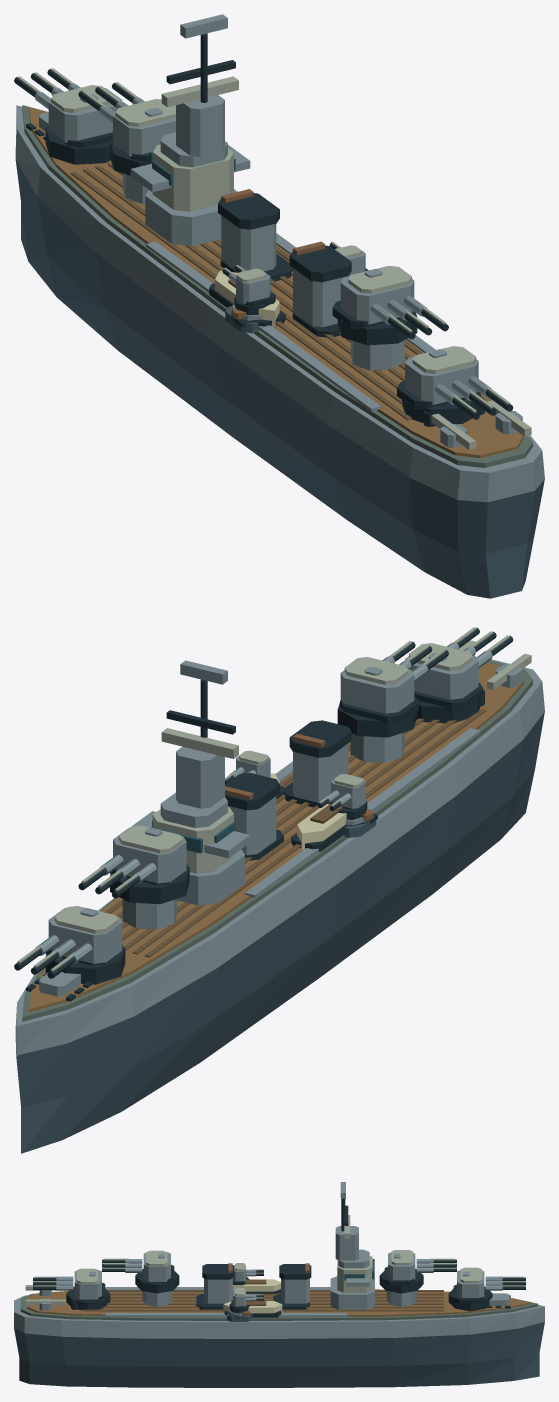
Rendered from cruiser.glb.
3 views of the same model, one above another, from view 1: azimuth 30°, elevation 25°; view 2: azimuth 150°, elevation 25°; view 3: azimuth 270°, elevation 25° (orthographic). The views are drawn at different scales.
Visible parts, largest first — view 1: cruiser-cruiser-geometry, cruiser-part_bridge.002-geometry, cruiser-turret_main_2.001-geometry, cruiser-turret_main_3.001-geometry, cruiser-turret_main_0.001-geometry, cruiser-historic_funnel_0.002-geometry, cruiser-turret_main_1.001-geometry, cruiser-historic_funnel_1.001-geometry, cruiser-turret_aa_aa-port.003-geometry; view 2: cruiser-cruiser-geometry, cruiser-part_bridge.002-geometry, cruiser-turret_main_2.001-geometry, cruiser-turret_main_1.001-geometry, cruiser-turret_main_0.001-geometry, cruiser-turret_main_3.001-geometry, cruiser-historic_funnel_1.001-geometry, cruiser-historic_funnel_0.002-geometry, cruiser-turret_aa_aa-port.003-geometry, cruiser-turret_aa_aa-starboard.002-geometry; view 3: cruiser-cruiser-geometry, cruiser-part_bridge.002-geometry, cruiser-turret_main_1.001-geometry, cruiser-turret_main_2.001-geometry, cruiser-turret_main_0.001-geometry, cruiser-turret_main_3.001-geometry, cruiser-historic_funnel_0.002-geometry, cruiser-historic_funnel_1.001-geometry, cruiser-turret_aa_aa-starboard.002-geometry, cruiser-turret_aa_aa-port.003-geometry.
Boxes of the visible parts, <box> form: cruiser-cruiser-geometry: <box>15,105,544,598</box>; cruiser-part_bridge.002-geometry: <box>130,14,250,245</box>; cruiser-turret_main_2.001-geometry: <box>332,265,448,345</box>; cruiser-turret_main_3.001-geometry: <box>397,346,513,424</box>; cruiser-turret_main_0.001-geometry: <box>14,68,122,164</box>; cruiser-historic_funnel_0.002-geometry: <box>218,189,292,281</box>; cruiser-turret_main_1.001-geometry: <box>78,82,175,175</box>; cruiser-historic_funnel_1.001-geometry: <box>289,241,351,337</box>; cruiser-turret_aa_aa-port.003-geometry: <box>222,265,275,315</box>; cruiser-cruiser-geometry: <box>15,640,544,1153</box>; cruiser-part_bridge.002-geometry: <box>131,660,250,905</box>; cruiser-turret_main_2.001-geometry: <box>337,641,448,737</box>; cruiser-turret_main_1.001-geometry: <box>78,825,189,904</box>; cruiser-turret_main_0.001-geometry: <box>14,906,125,984</box>; cruiser-turret_main_3.001-geometry: <box>405,627,513,723</box>; cruiser-historic_funnel_1.001-geometry: <box>283,720,351,807</box>; cruiser-historic_funnel_0.002-geometry: <box>225,773,283,860</box>; cruiser-turret_aa_aa-port.003-geometry: <box>317,774,367,819</box>; cruiser-turret_aa_aa-starboard.002-geometry: <box>225,750,270,784</box>; cruiser-cruiser-geometry: <box>14,1279,544,1387</box>; cruiser-part_bridge.002-geometry: <box>330,1182,374,1309</box>; cruiser-turret_main_1.001-geometry: <box>379,1250,456,1293</box>; cruiser-turret_main_2.001-geometry: <box>102,1250,179,1293</box>; cruiser-turret_main_0.001-geometry: <box>448,1267,525,1311</box>; cruiser-turret_main_3.001-geometry: <box>33,1268,110,1310</box>; cruiser-historic_funnel_0.002-geometry: <box>273,1263,311,1309</box>; cruiser-historic_funnel_1.001-geometry: <box>196,1263,234,1309</box>; cruiser-turret_aa_aa-starboard.002-geometry: <box>229,1288,263,1313</box>; cruiser-turret_aa_aa-port.003-geometry: <box>233,1263,263,1285</box>.
Size of the model in its own units: 0.6937 by 1.7 by 4.32.
